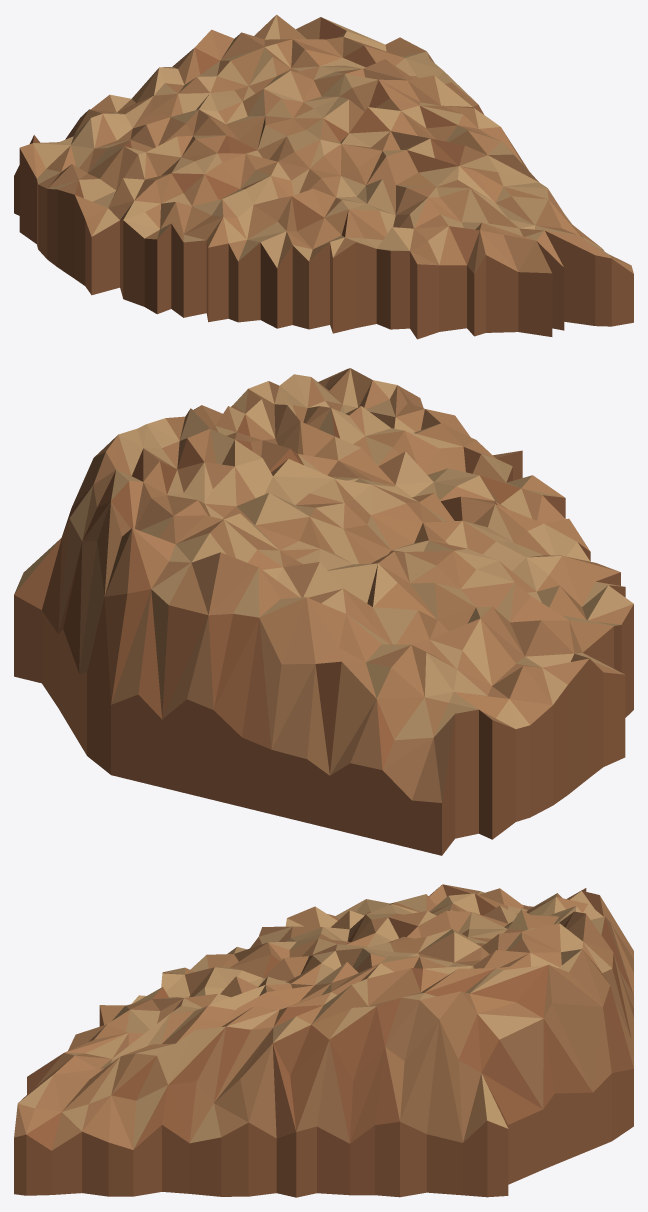
Rendered from nose_crag.glb.
3 views of the same model, one above another, from view 1: azimuth 30°, elevation 25°; view 2: azimuth 150°, elevation 25°; view 3: azimuth 270°, elevation 25° (orthographic). The views are drawn at different scales.
Visible parts, largest first — view 1: nose_crag; view 2: nose_crag; view 3: nose_crag.
Boxes of the visible parts, x1,y1,x2,y2 form: nose_crag: (14, 14, 633, 339); nose_crag: (14, 368, 633, 855); nose_crag: (14, 884, 633, 1197).
Bounding box in the file's own units: 156 × 60.98 × 188.
